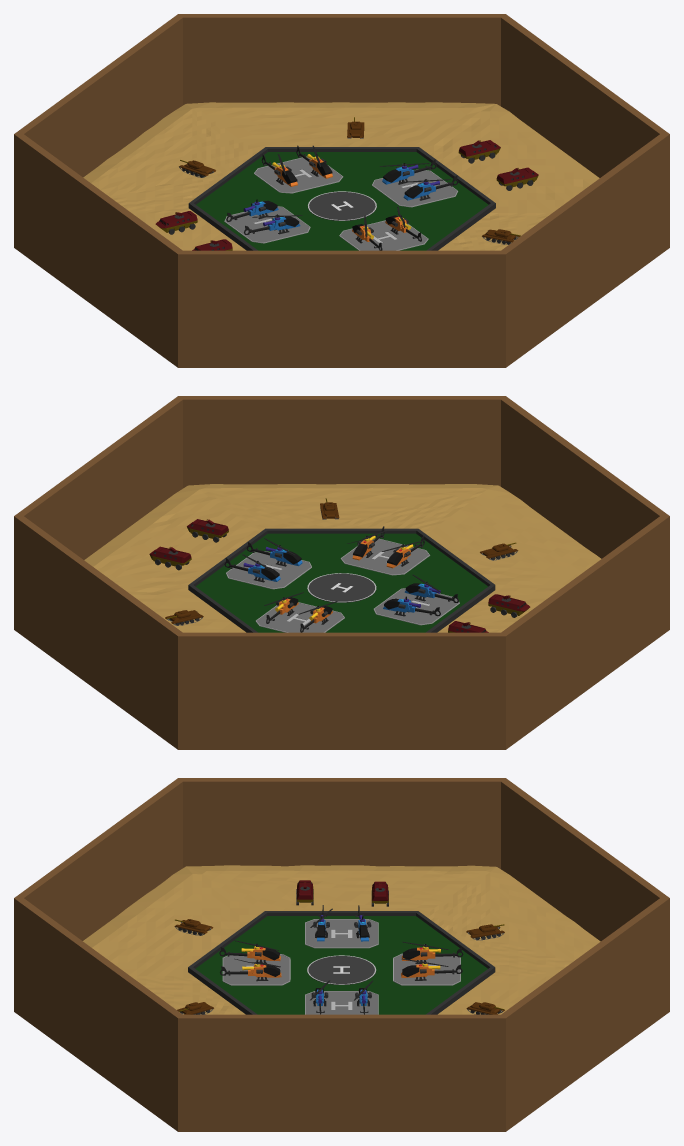
File: lau dai 3.fbx
3 views of the same model, one above another, from view 1: azimuth 30°, elevation 25°; view 2: azimuth 150°, elevation 25°; view 3: azimuth 270°, elevation 25° (orthographic).
Visible parts, largest first — view 1: Circle.007, Circle.004, Circle.003, Circle.006, Circle.012, Circle.011, Circle.010, Circle.008, Cylinder.004, Cylinder.005, Cylinder.006, Plane.002 (+2 smaller); view 2: Circle.007, Circle.004, Circle.003, Circle.006, Circle.011, Circle.012, Circle.010, Circle.008, Cylinder.007, Cylinder.004, Cylinder.005, Plane.001 (+4 smaller); view 3: Circle.007, Circle.004, Circle.003, Circle.008, Circle.006, Circle.011, Circle.012, Circle.010, Plane.003, Plane.006, Plane.004, Plane.017.
Boxes of the visible parts, x1=… form: Circle.007: x1=14, y1=14, x2=669, y2=367; Circle.004: x1=83, y1=102, x2=599, y2=250; Circle.003: x1=188, y1=147, x2=495, y2=250; Circle.006: x1=307, y1=191, x2=376, y2=220; Circle.012: x1=254, y1=156, x2=343, y2=193; Circle.011: x1=339, y1=220, x2=428, y2=250; Circle.010: x1=372, y1=169, x2=458, y2=207; Circle.008: x1=224, y1=206, x2=310, y2=243; Cylinder.004: x1=496, y1=167, x2=538, y2=190; Cylinder.005: x1=458, y1=140, x2=500, y2=163; Cylinder.006: x1=155, y1=211, x2=197, y2=234; Plane.002: x1=401, y1=175, x2=458, y2=200; Circle.007: x1=14, y1=396, x2=669, y2=749; Circle.004: x1=84, y1=484, x2=601, y2=632; Circle.003: x1=188, y1=528, x2=495, y2=632; Circle.006: x1=307, y1=573, x2=376, y2=602; Circle.011: x1=340, y1=538, x2=430, y2=575; Circle.012: x1=255, y1=602, x2=344, y2=632; Circle.010: x1=226, y1=551, x2=311, y2=589; Circle.008: x1=373, y1=588, x2=459, y2=625; Cylinder.007: x1=488, y1=594, x2=530, y2=617; Cylinder.004: x1=187, y1=519, x2=228, y2=542; Cylinder.005: x1=149, y1=546, x2=191, y2=570; Plane.001: x1=224, y1=554, x2=280, y2=582; Circle.007: x1=14, y1=778, x2=669, y2=1131; Circle.004: x1=83, y1=865, x2=600, y2=1014; Circle.003: x1=188, y1=911, x2=495, y2=1014; Circle.008: x1=305, y1=919, x2=378, y2=948; Circle.006: x1=307, y1=955, x2=376, y2=984; Circle.011: x1=222, y1=954, x2=290, y2=985; Circle.012: x1=393, y1=953, x2=460, y2=985; Circle.010: x1=305, y1=991, x2=378, y2=1014; Plane.003: x1=220, y1=958, x2=281, y2=981; Plane.006: x1=401, y1=941, x2=463, y2=963; Plane.004: x1=219, y1=940, x2=280, y2=963; Plane.017: x1=401, y1=963, x2=462, y2=980.
Size of the model in its own units: 1119 by 247 by 1292.
